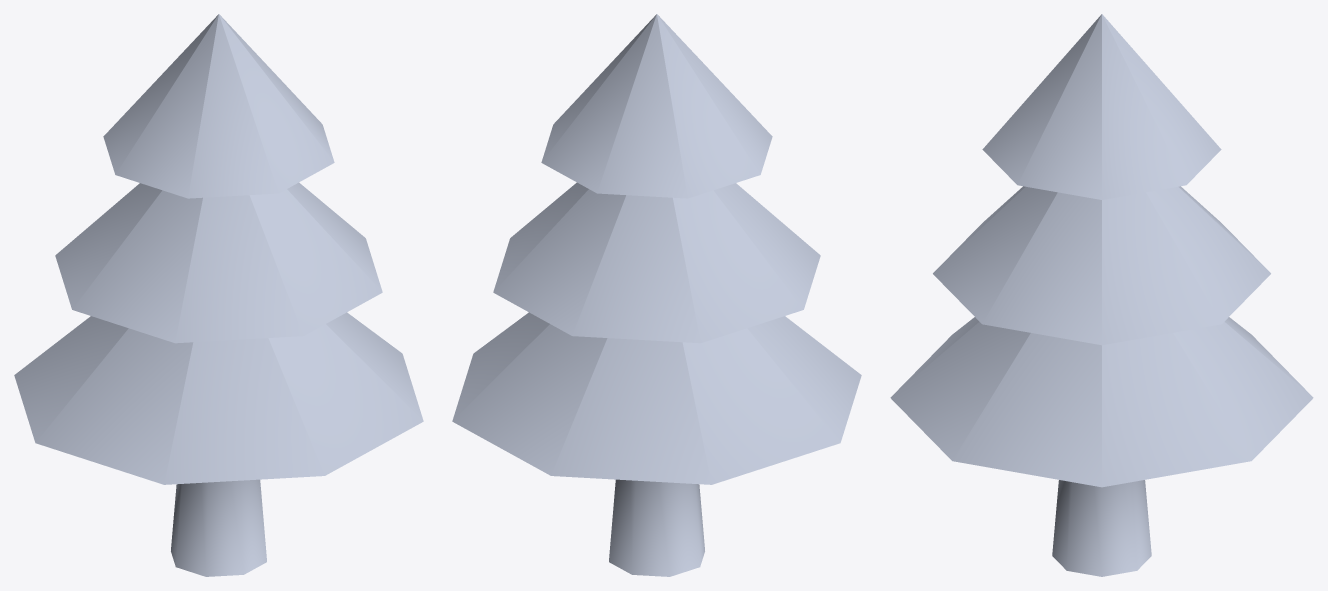
Rendered from polygen_a_stylized_low_poly_pine_34561a0e.obj.
3 renders of one model, left to right at view 1: azimuth 30°, elevation 25°; view 2: azimuth 150°, elevation 25°; view 3: azimuth 270°, elevation 25°, orthographic.
Visible parts, largest first — view 1: Tree; view 2: Tree; view 3: Tree.
Boxes of the visible parts, x1,y1,x2,y2 form: Tree: [14, 14, 423, 576]; Tree: [452, 14, 861, 576]; Tree: [890, 14, 1313, 576].
Size of the model in its own units: 1.42 by 2 by 1.42.
